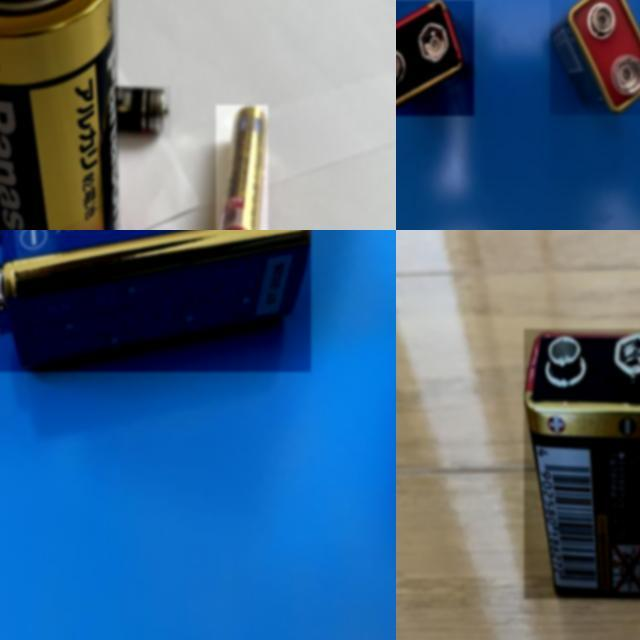9V: (0, 230, 311, 372), (524, 329, 640, 598), (550, 0, 640, 114), (396, 0, 474, 116)
